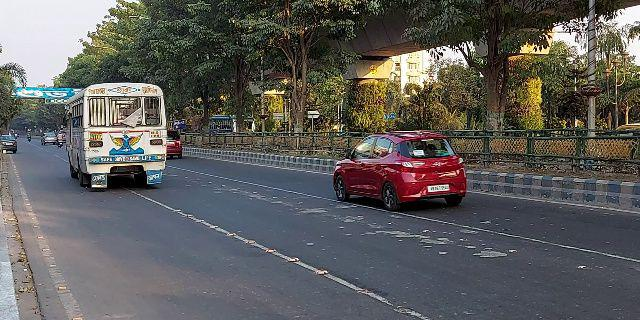Bus: (63, 80, 170, 189)
Car: (332, 129, 467, 216), (164, 125, 186, 159)
